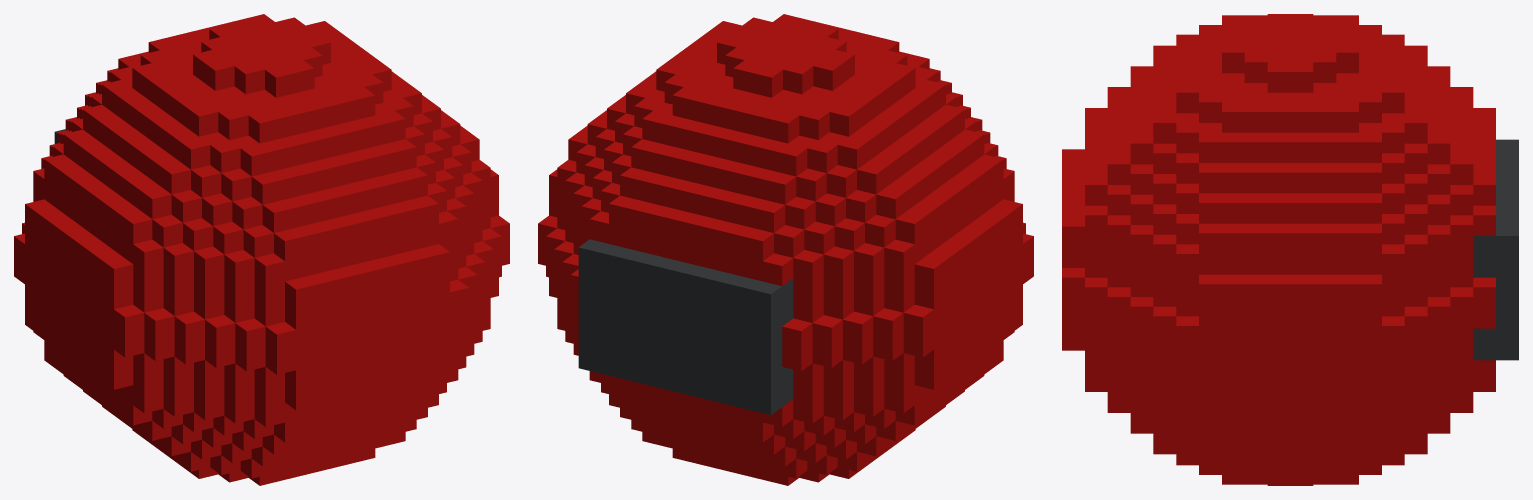
Rendered from clown_nose.glb.
3 renders of one model, left to right at view 1: azimuth 30°, elevation 25°; view 2: azimuth 150°, elevation 25°; view 3: azimuth 270°, elevation 25°, orthographic. The views are drawn at different scales.
Parts seen in each view (by area): view 1: clown_nose:compound; view 2: clown_nose:compound; view 3: clown_nose:compound.
Boxes of the visible parts, left/top/right/bottom form: clown_nose:compound: left=14, top=14, right=509, bottom=485; clown_nose:compound: left=538, top=14, right=1033, bottom=485; clown_nose:compound: left=1062, top=14, right=1518, bottom=485.
Size of the model in its own units: 0.04 by 0.04 by 0.04.
